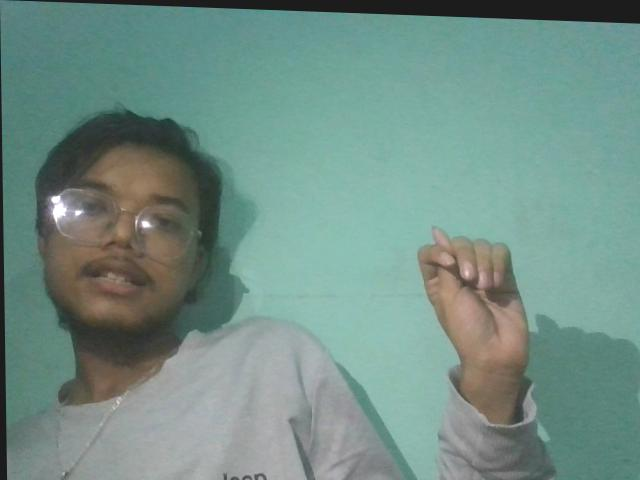Washroom: (400, 208, 545, 399)
